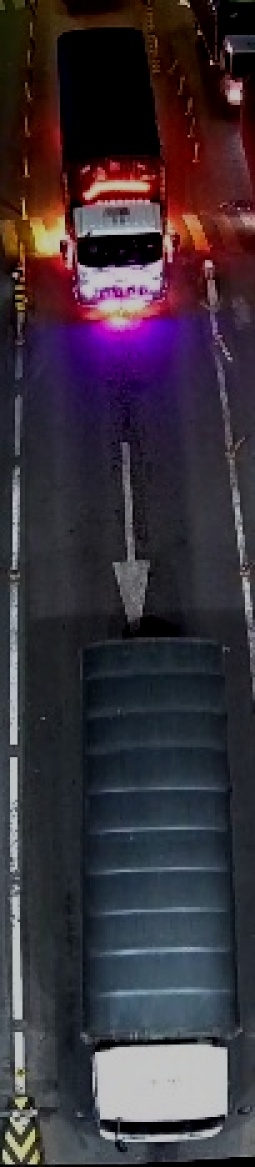truck: (72, 631, 232, 1143), (56, 32, 176, 323)
